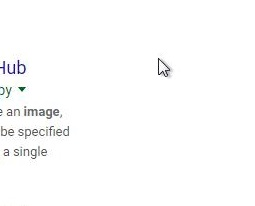cursor: (157, 56, 170, 77)
